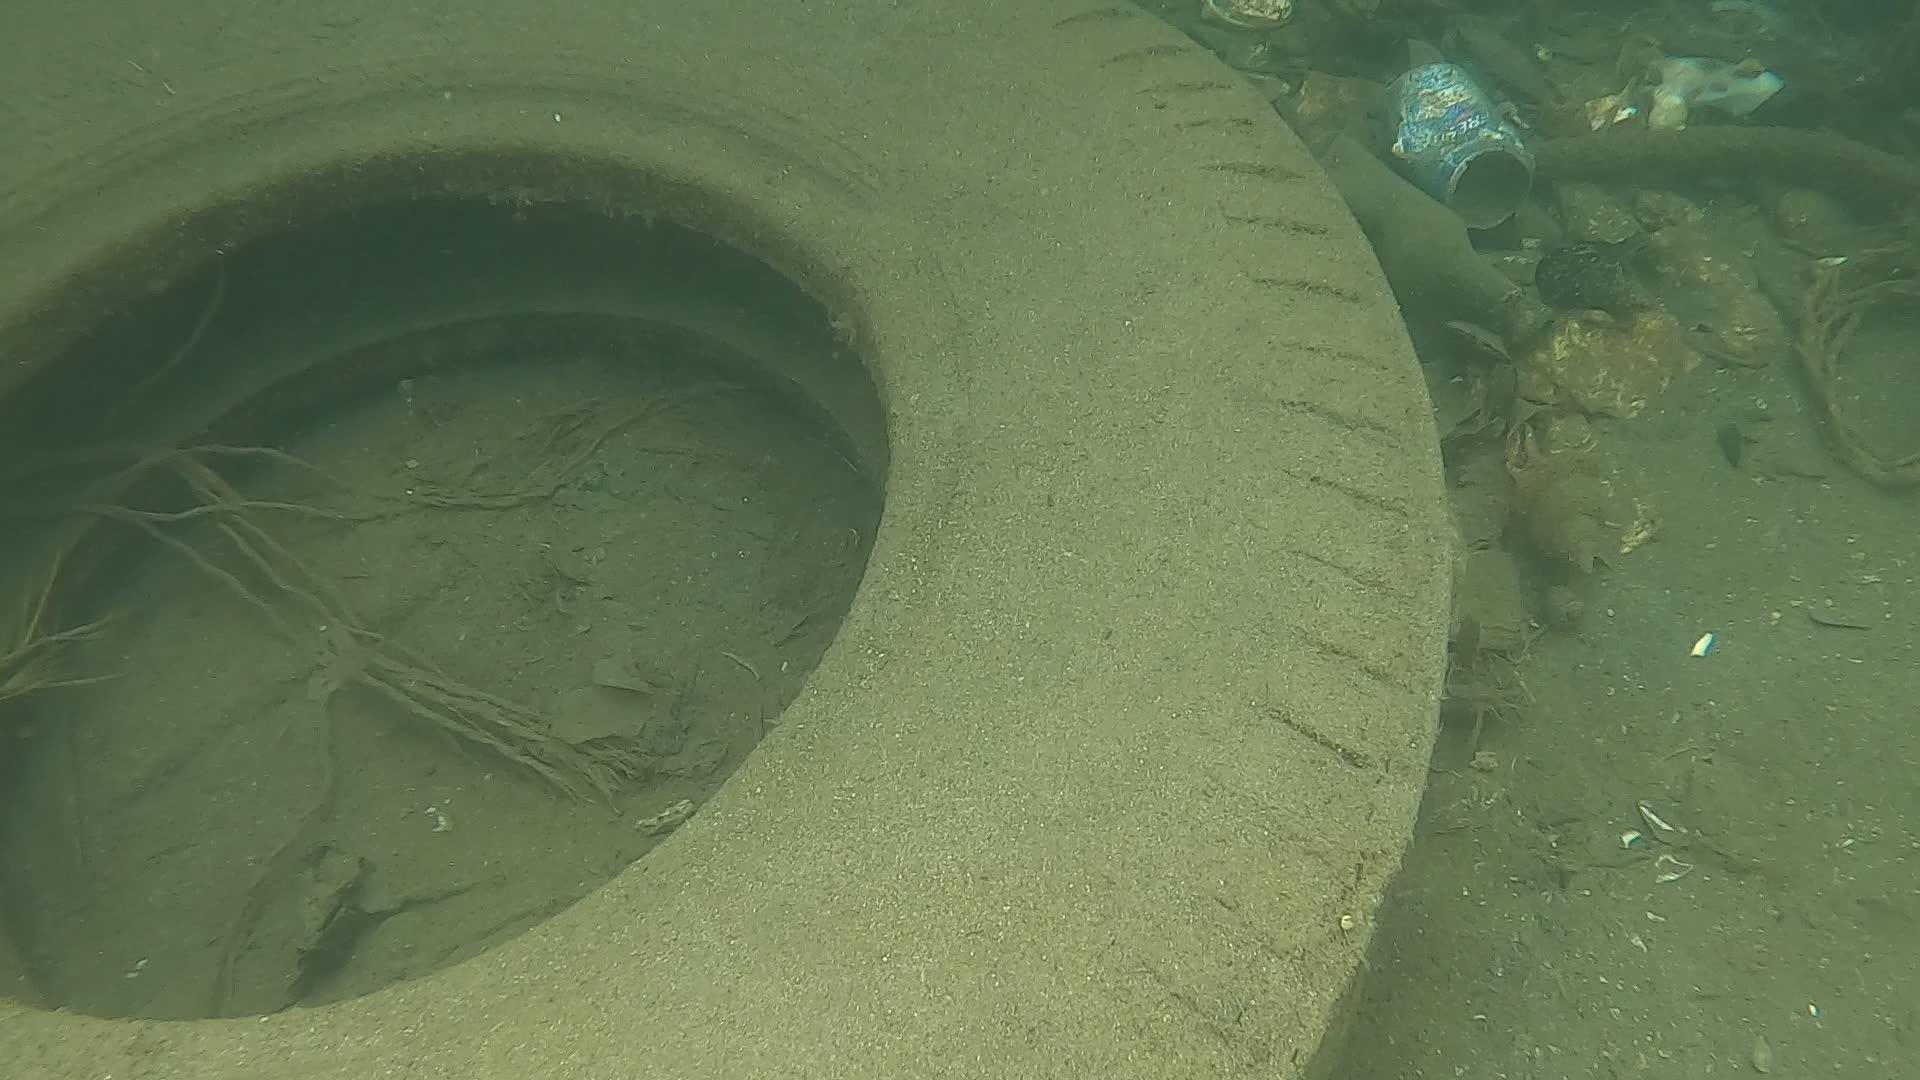tire: (0, 0, 1457, 1080)
